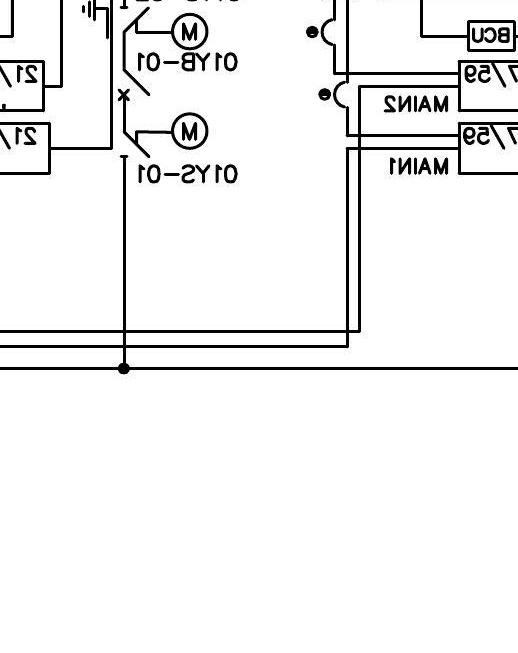115_1way_ds_w_motor: (119, 112, 209, 159)
115_breaker: (117, 69, 151, 101)
BCU: (466, 19, 517, 53)
